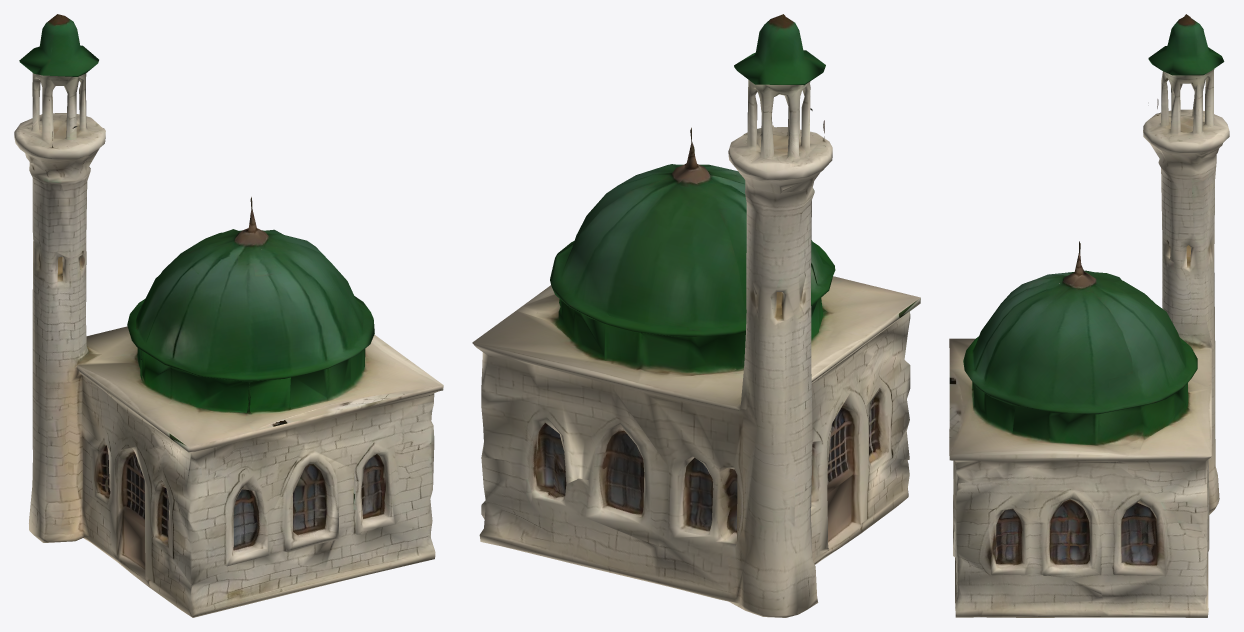
Rendered from h_mosque.glb.
3 renders of one model, left to right at view 1: azimuth 30°, elevation 25°; view 2: azimuth 150°, elevation 25°; view 3: azimuth 270°, elevation 25°, orthographic. The views are drawn at different scales.
Parts seen in each view (by area): view 1: model; view 2: model; view 3: model.
Boxes of the visible parts, x1,y1,x2,y2 form: model: [14, 14, 443, 617]; model: [472, 14, 920, 617]; model: [949, 14, 1229, 617].
Size of the model in its own units: 1.1 by 1.83 by 0.9561.
1 material, 1 textured.
